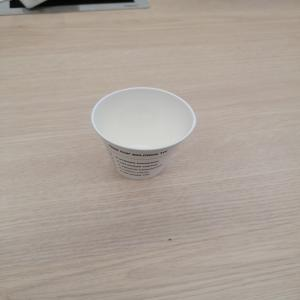Cup: (92, 88, 198, 182)
